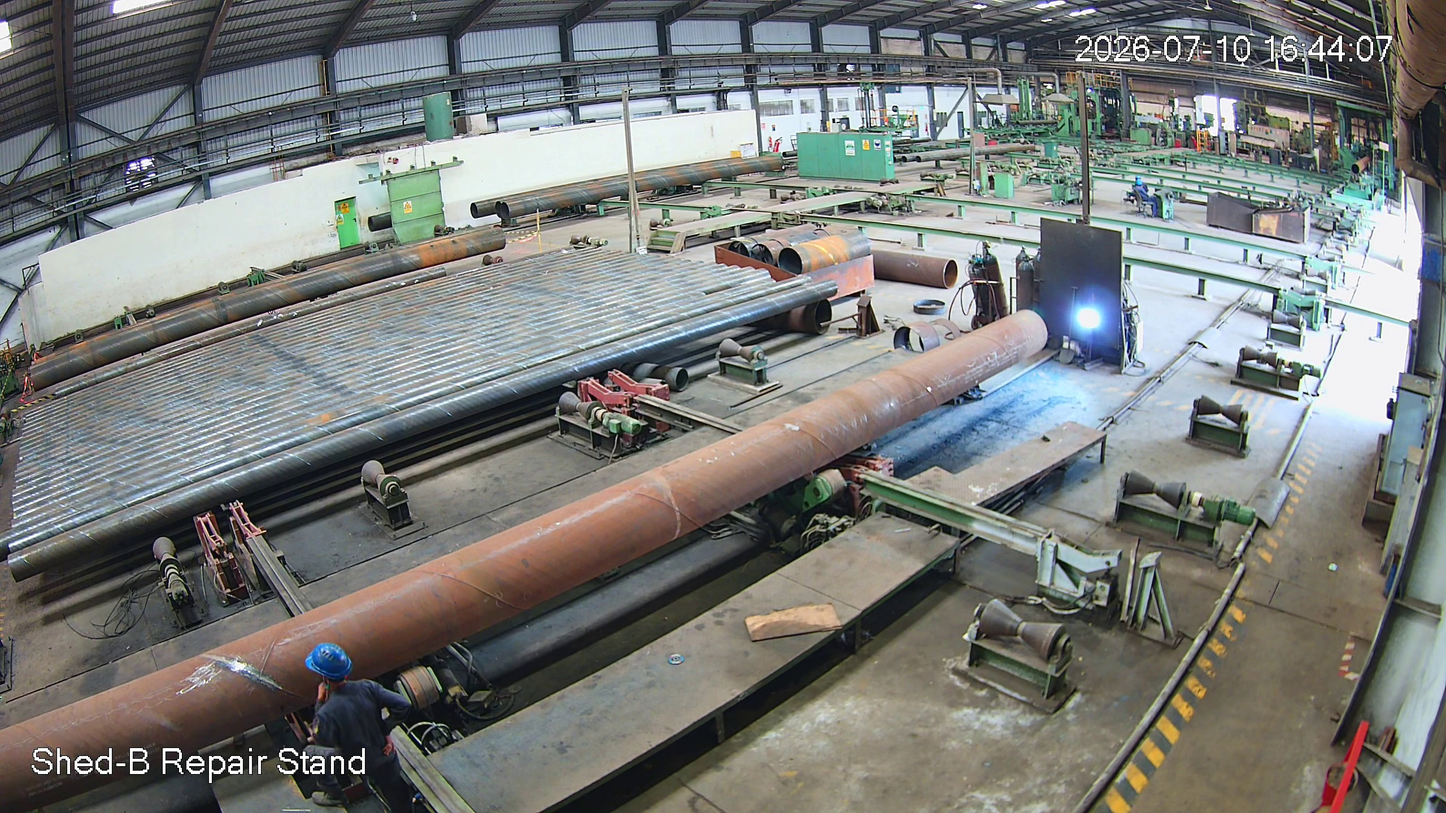Helmet: (297, 639, 377, 707)
Person: (299, 644, 438, 813)
